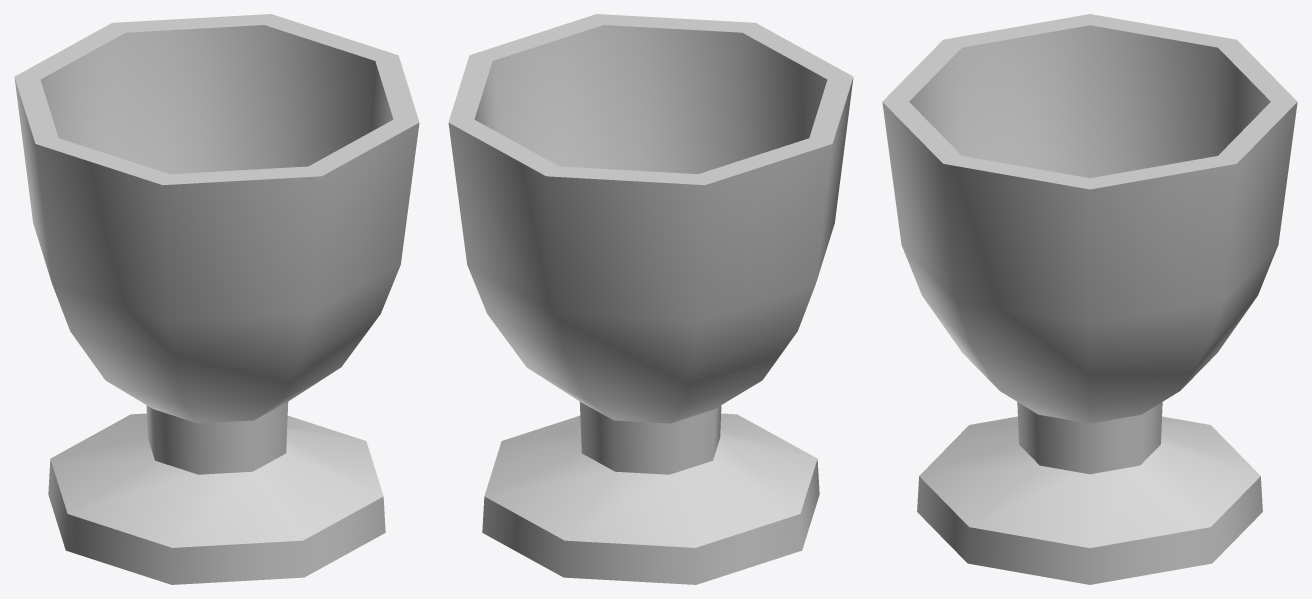
File: EggCup_01.fbx
3 renders of one model, left to right at view 1: azimuth 30°, elevation 25°; view 2: azimuth 150°, elevation 25°; view 3: azimuth 270°, elevation 25°, orthographic.
Parts seen in each view (by area): view 1: EggCup_01; view 2: EggCup_01; view 3: EggCup_01.
Boxes of the visible parts, <box> form: EggCup_01: <box>14,14,419,584</box>; EggCup_01: <box>448,14,853,584</box>; EggCup_01: <box>882,14,1297,584</box>.
Bounding box in the file's own units: 0.0714 × 0.0778 × 0.0714.
